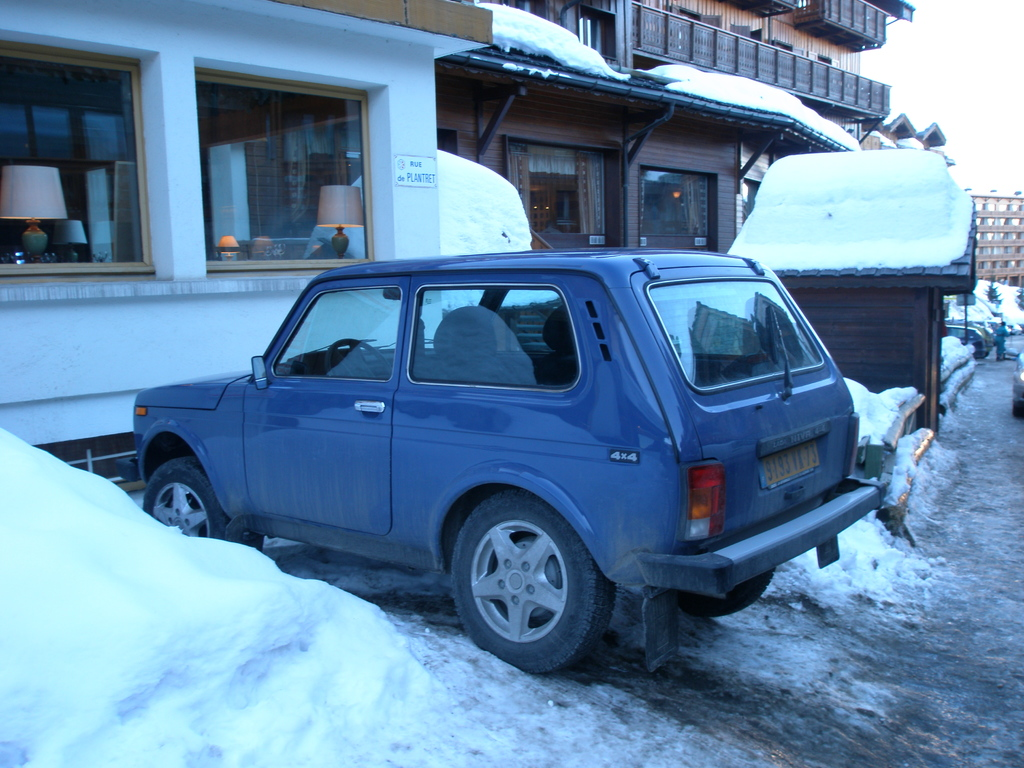Car: (116, 239, 897, 685), (941, 317, 1023, 415)
